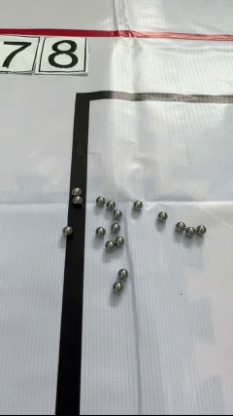ironball: (114, 263, 129, 279), (110, 278, 125, 293), (92, 223, 105, 238), (104, 198, 117, 212), (154, 209, 169, 221), (60, 222, 73, 235), (184, 222, 195, 237), (93, 194, 105, 207), (69, 193, 82, 205), (174, 219, 185, 233), (114, 233, 125, 247), (109, 219, 120, 233), (195, 222, 207, 234), (103, 238, 115, 250), (111, 206, 121, 219), (130, 198, 141, 209), (71, 184, 80, 196)
